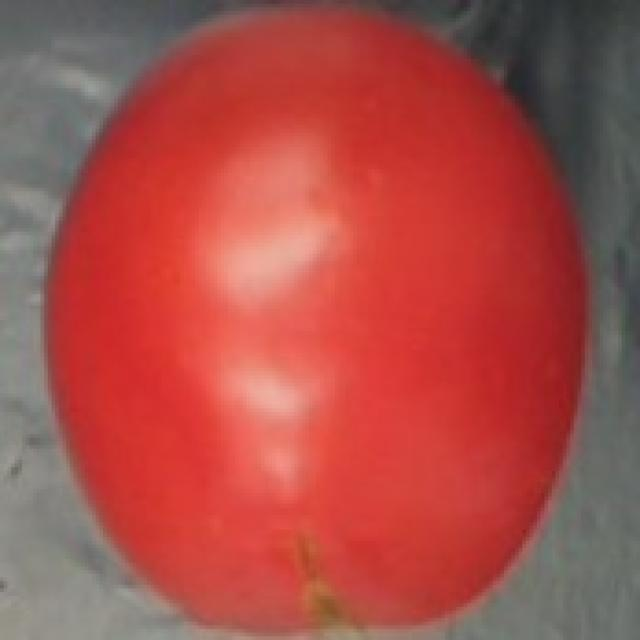ripe tomato: (32, 4, 600, 640)
